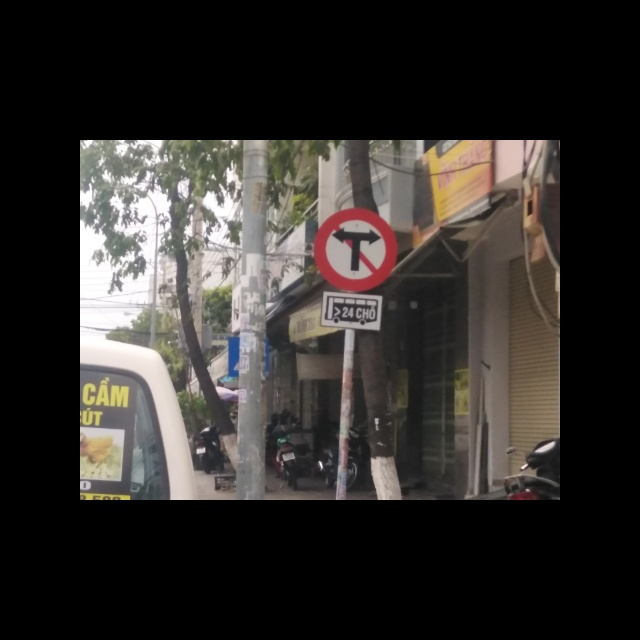Cấm rẽ trái và rẽ phải: (312, 208, 399, 291)
